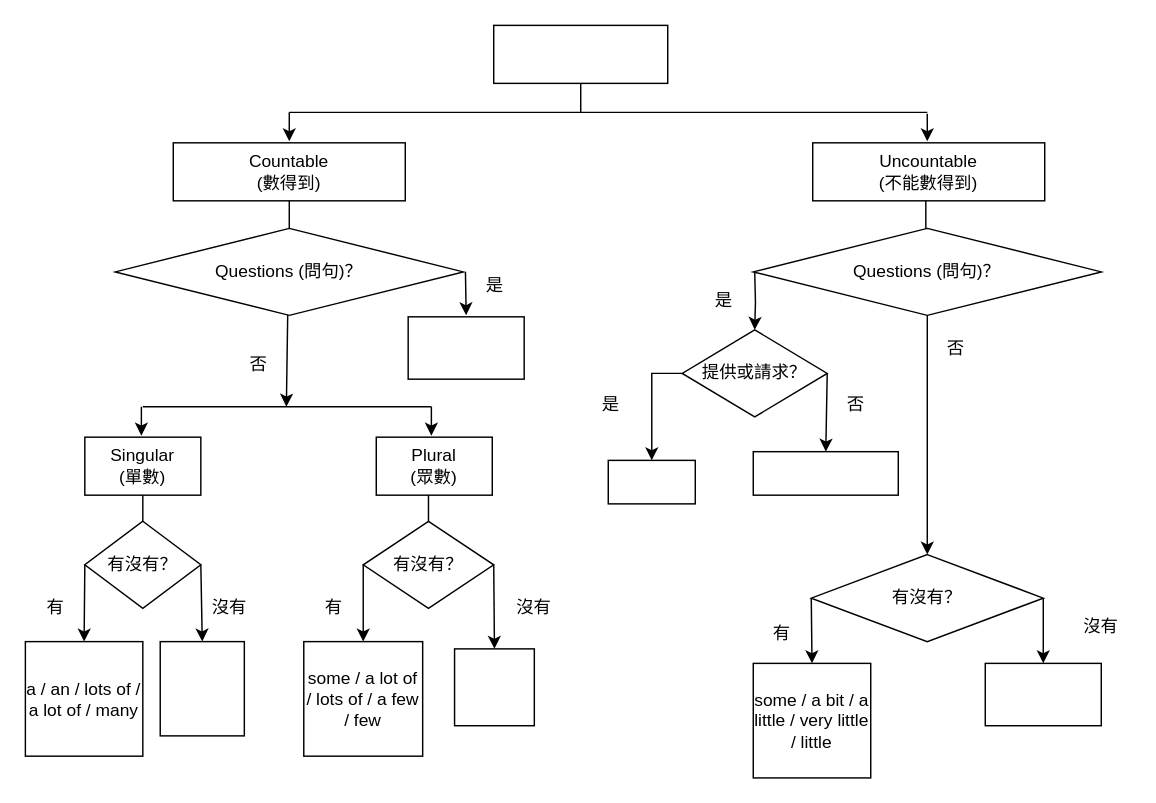
The diagram is 1156 pixels wide and 803 high, and some of its shapes have lost their labels. Each missing label, with the centre of its shape:
a / an / any / how many: the point at 465,347
a / an / not many: the point at 201,688
any: the point at 1042,694
any / how much: the point at 825,472
any / not much: the point at 493,686
Nouns (名詞): the point at 580,53
some: the point at 651,481
